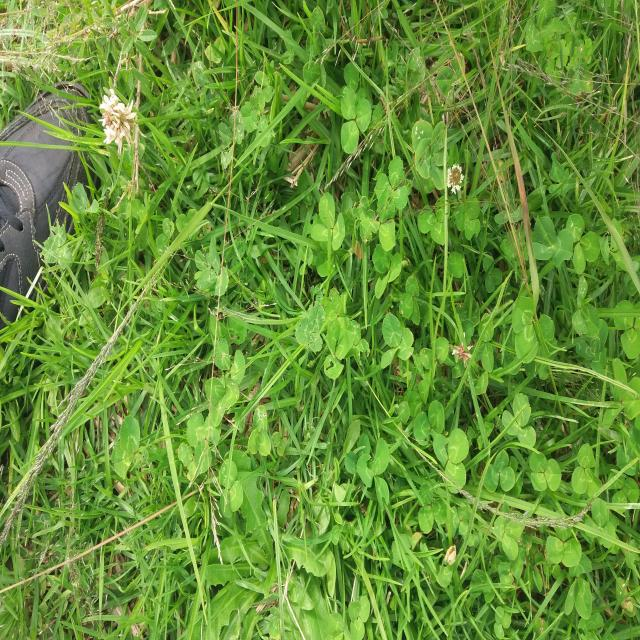Four Leaf Clover: (411, 117, 449, 190)
